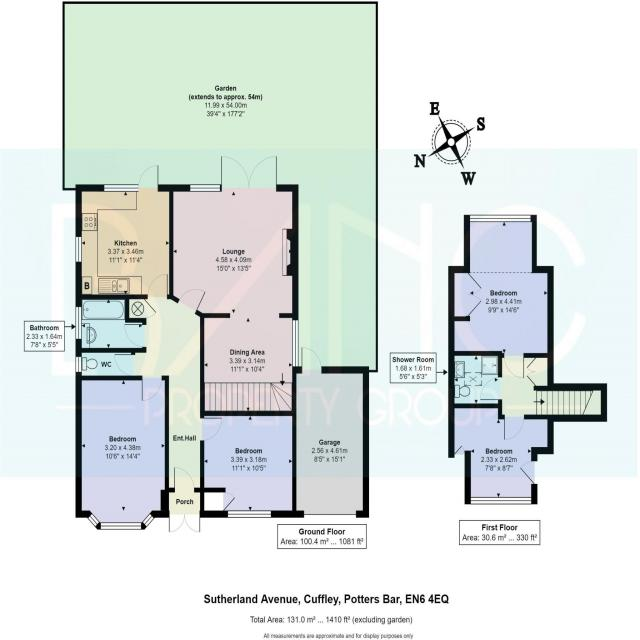DOOR: (177, 288, 207, 315), (173, 466, 196, 493), (199, 417, 223, 442), (503, 414, 525, 441), (138, 164, 159, 192), (301, 346, 322, 374), (480, 376, 503, 401), (503, 353, 525, 379), (113, 353, 136, 377), (124, 324, 147, 348), (141, 375, 162, 401), (147, 274, 168, 299), (519, 460, 538, 485), (454, 445, 465, 456)
DOUBLE DOOR: (219, 150, 280, 192), (168, 508, 202, 535)
ROOM: (448, 215, 554, 379), (75, 375, 169, 530), (75, 165, 174, 300), (448, 403, 554, 505), (200, 411, 297, 518)
WINDOW: (470, 496, 532, 505), (470, 214, 531, 222), (291, 319, 299, 368), (227, 510, 272, 518), (100, 522, 141, 530), (104, 184, 139, 192), (189, 184, 221, 192), (75, 306, 82, 340), (87, 513, 100, 527), (75, 236, 82, 262), (142, 513, 154, 527), (75, 356, 82, 373)
